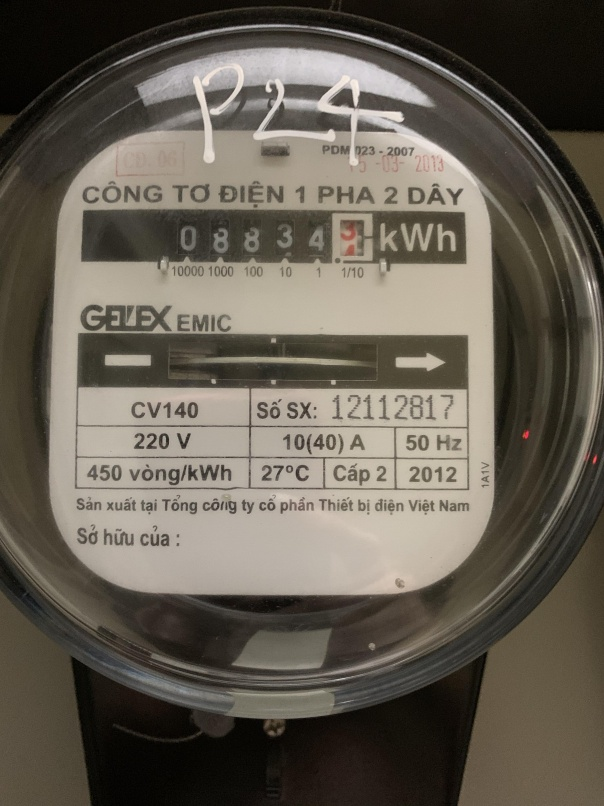counter: (81, 207, 471, 267)
electricity_meter: (12, 23, 602, 714)
